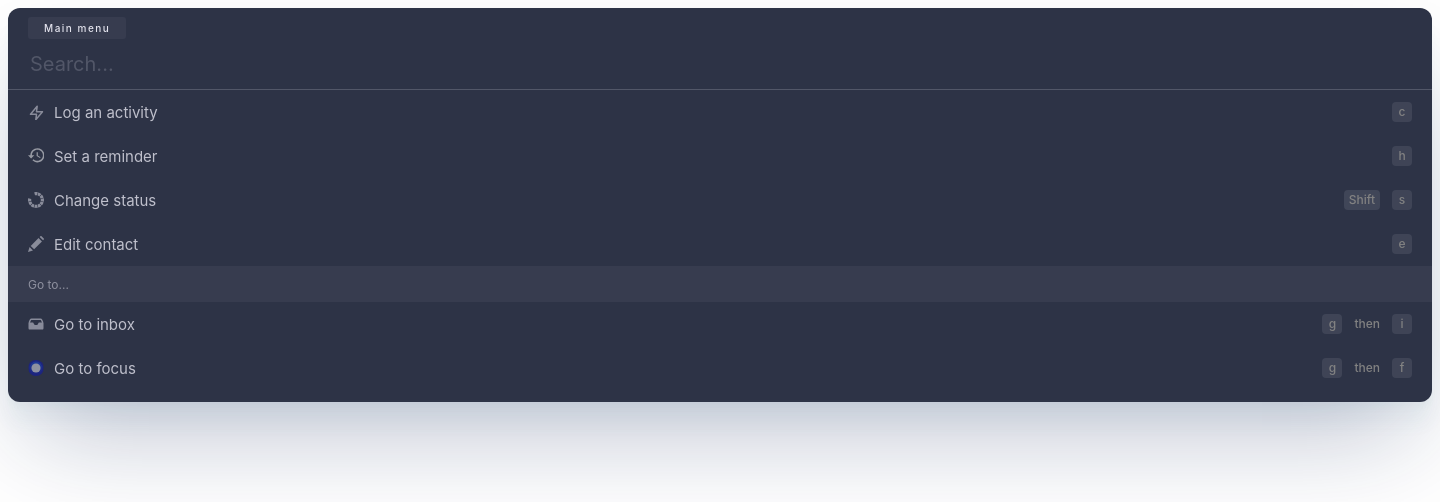
Scenario: filters when user types into search box
In the field with placeholder "Search...": (720, 64) 28,51 -> 1412,77, type "log"
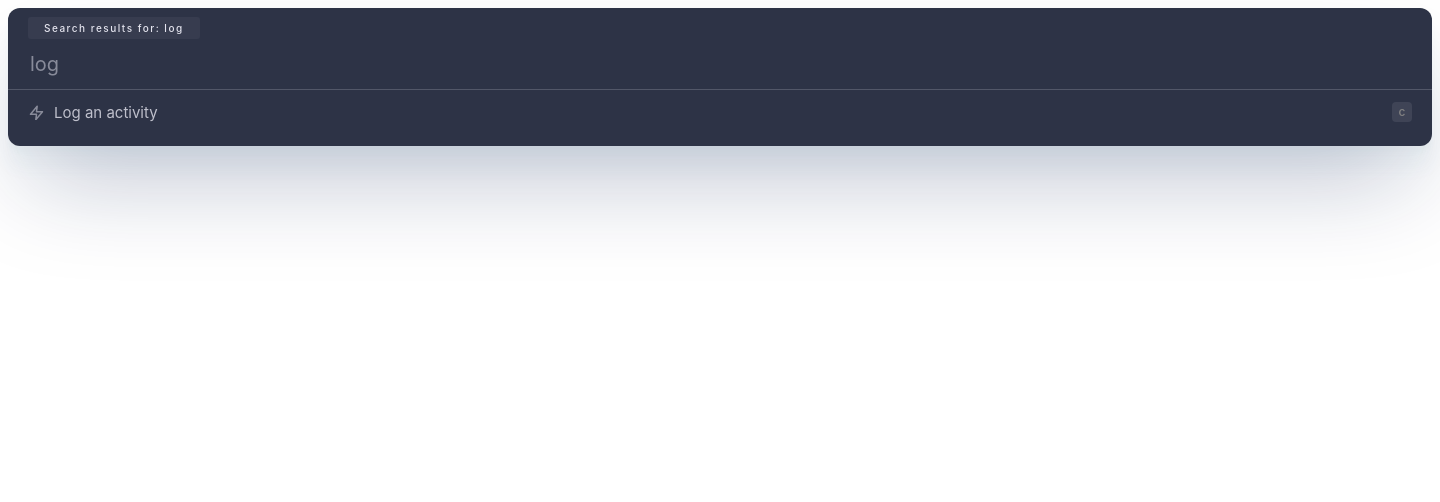
Check: the text "Search results for: log" is shown, box 44,22 -> 184,34
